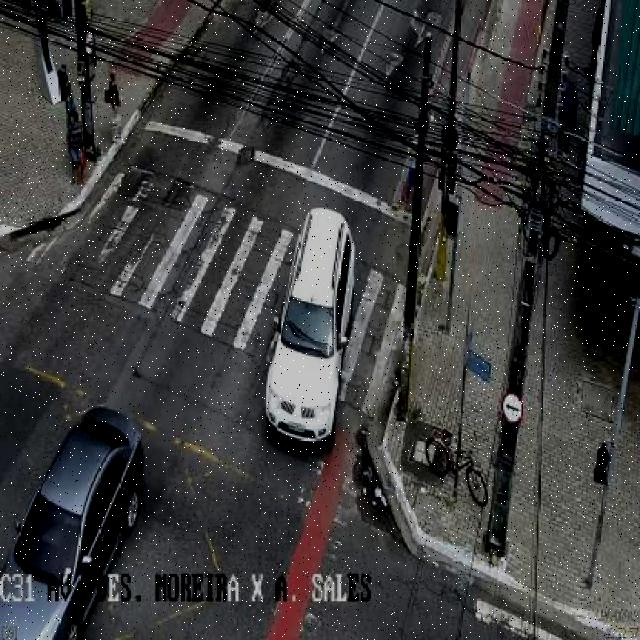bicycle: (426, 426, 488, 506)
car: (264, 208, 356, 442)
motorbike: (65, 112, 87, 188), (556, 81, 578, 156), (104, 70, 122, 144)
